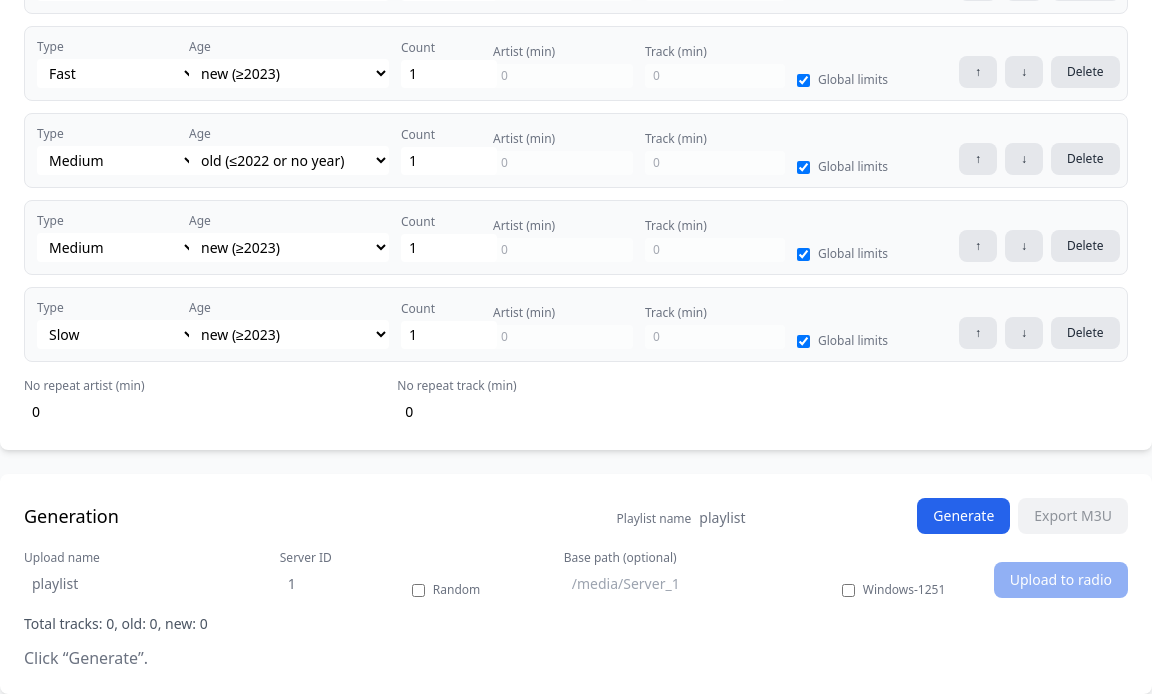
Scenario: PlayList › shows upload error when generated rows have no tracks
(page scrolled)
Click the button "Generate" at (964, 516), box [917, 498, 1010, 534]
(page scrolled)
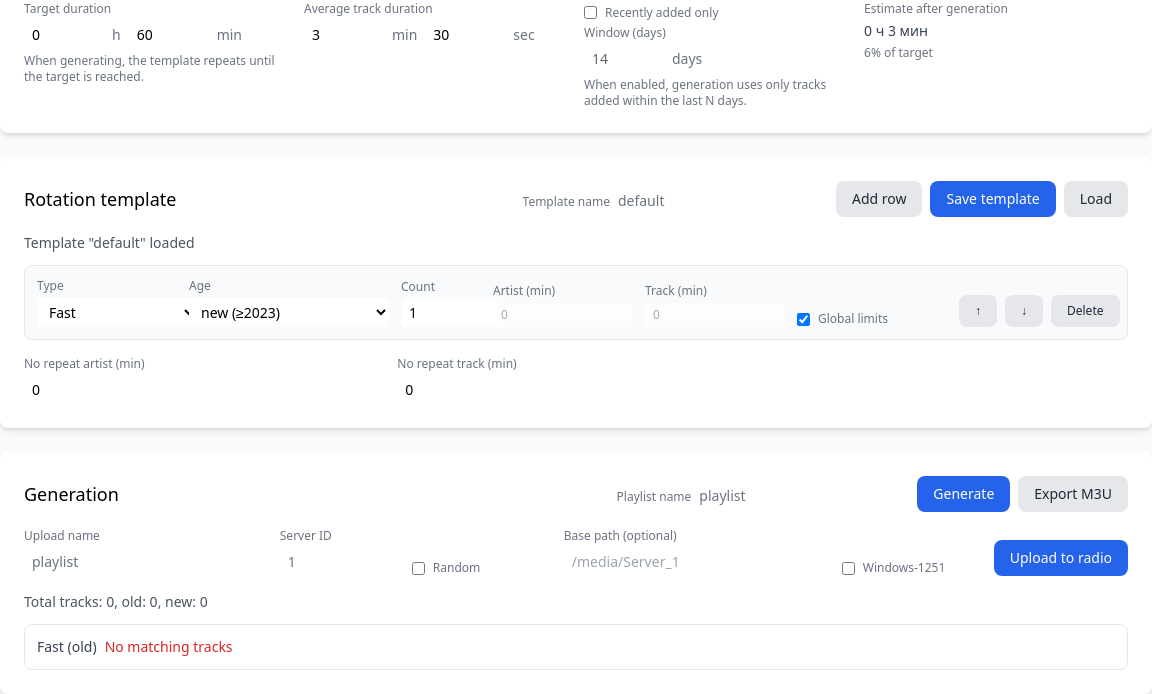
Now the text "No matching tracks" is shown, box [105, 637, 233, 656]
Click the button "Upload to radio" at (1061, 558), box [994, 540, 1128, 576]
(page scrolled)
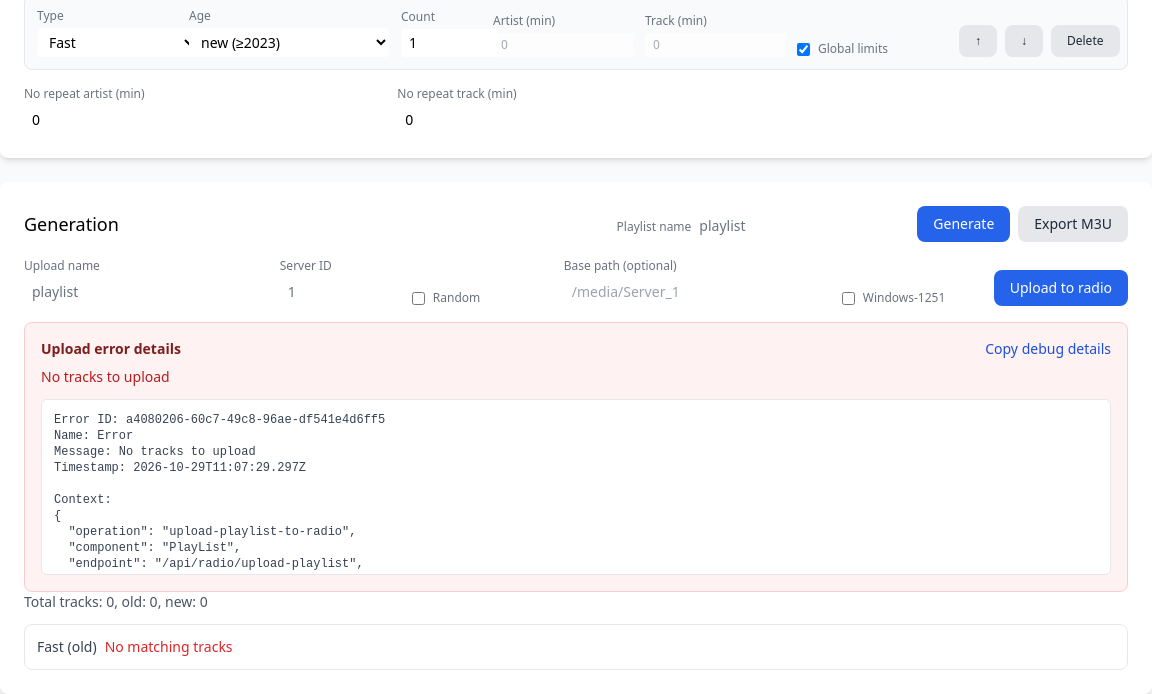
Now the text "No tracks to upload" is shown, box [41, 367, 181, 387]
